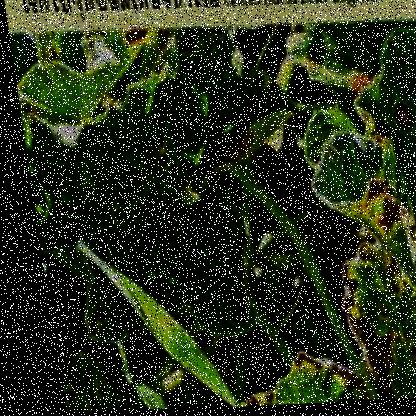AlternariaBrassicicola: (98, 188, 239, 268), (384, 92, 415, 150)
